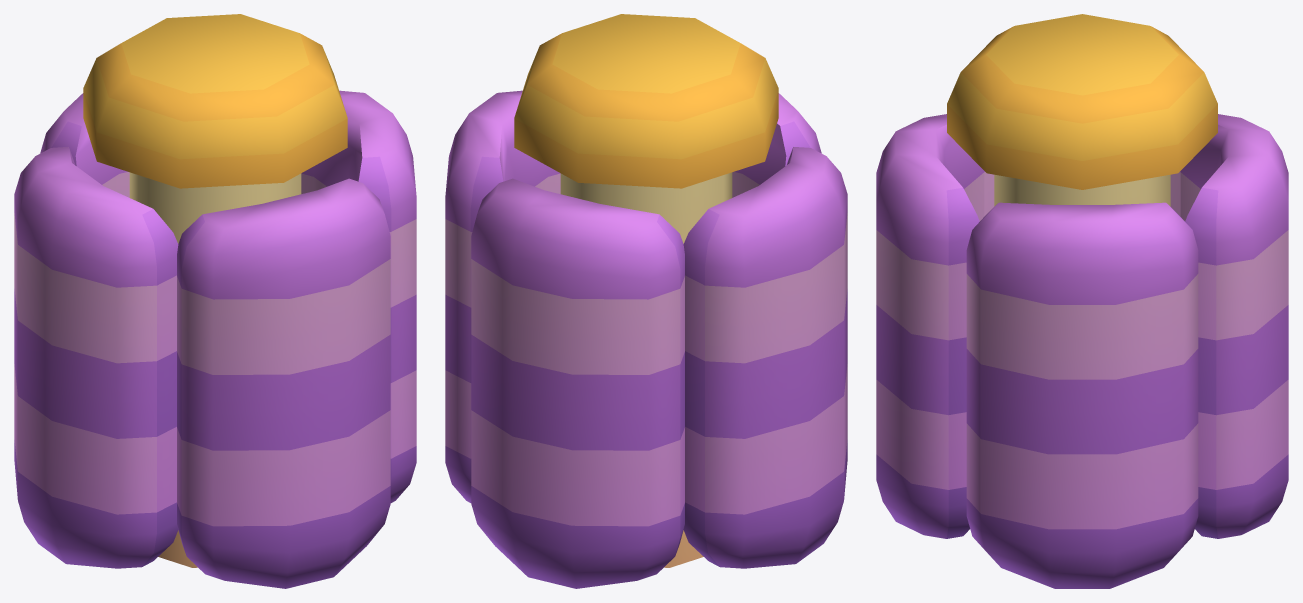
The model's file is obstacle_1.fbx.
3 views of the same model, side by side, from view 1: azimuth 30°, elevation 25°; view 2: azimuth 150°, elevation 25°; view 3: azimuth 270°, elevation 25° (orthographic).
Visible parts, largest first — view 1: obstacle_1; view 2: obstacle_1; view 3: obstacle_1.
Part boxes in pixels (<box>): obstacle_1: <box>14,14,416,588</box>; obstacle_1: <box>445,14,847,588</box>; obstacle_1: <box>876,14,1288,588</box>.
Size of the model in its own units: 208 by 263 by 208.
